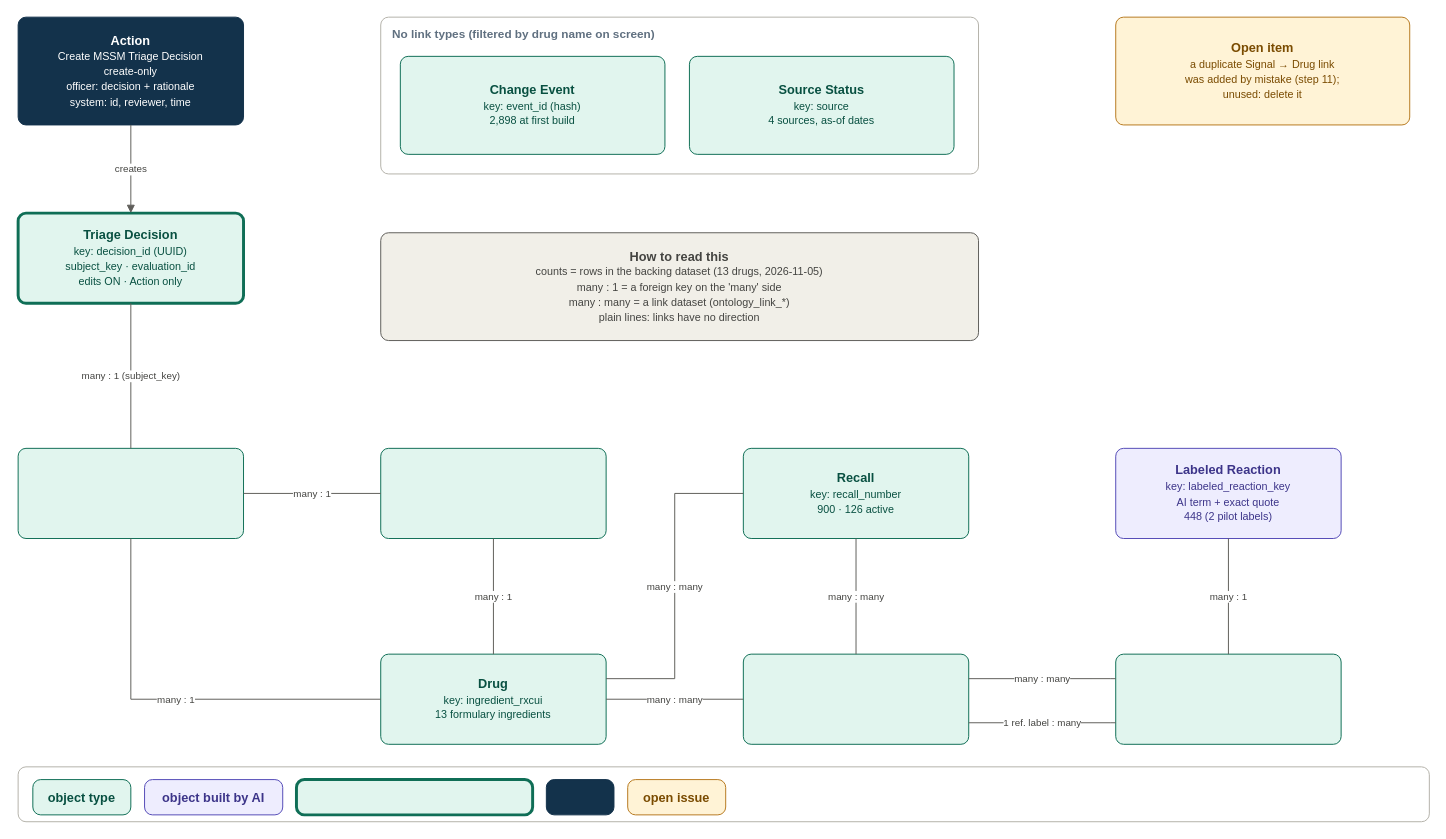
This 1446x839 diagram has some shape labels left out. Here are the shapes that lost their labels. From the top down, the box of each, then its label:
(17, 447, 244, 539): Signal key: signal_key rxcui | reaction | rule 1,952 · 1,073 ranked
(380, 447, 606, 539): AE Stat key: stat_key a, b, c, d · PRR · chi² 14,921
(742, 653, 969, 744): Product key: product_key = application number 658
(1115, 653, 1341, 744): Label key: label_key setid | version 1,321
(294, 778, 534, 816): written by people (thick border)
(545, 779, 614, 815): Action
